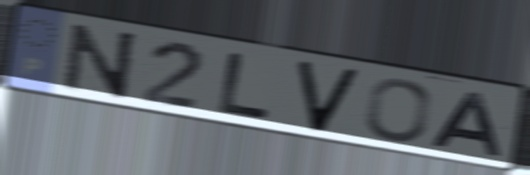2: (140, 39, 207, 112)
A: (427, 90, 507, 160)
L: (216, 49, 275, 122)
N: (60, 21, 141, 101)
O: (363, 77, 434, 144)
V: (294, 59, 362, 135)
